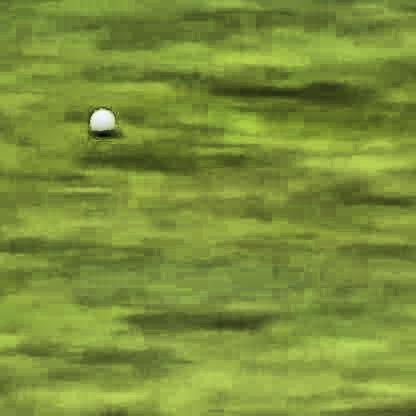golfball: (86, 104, 111, 134)
